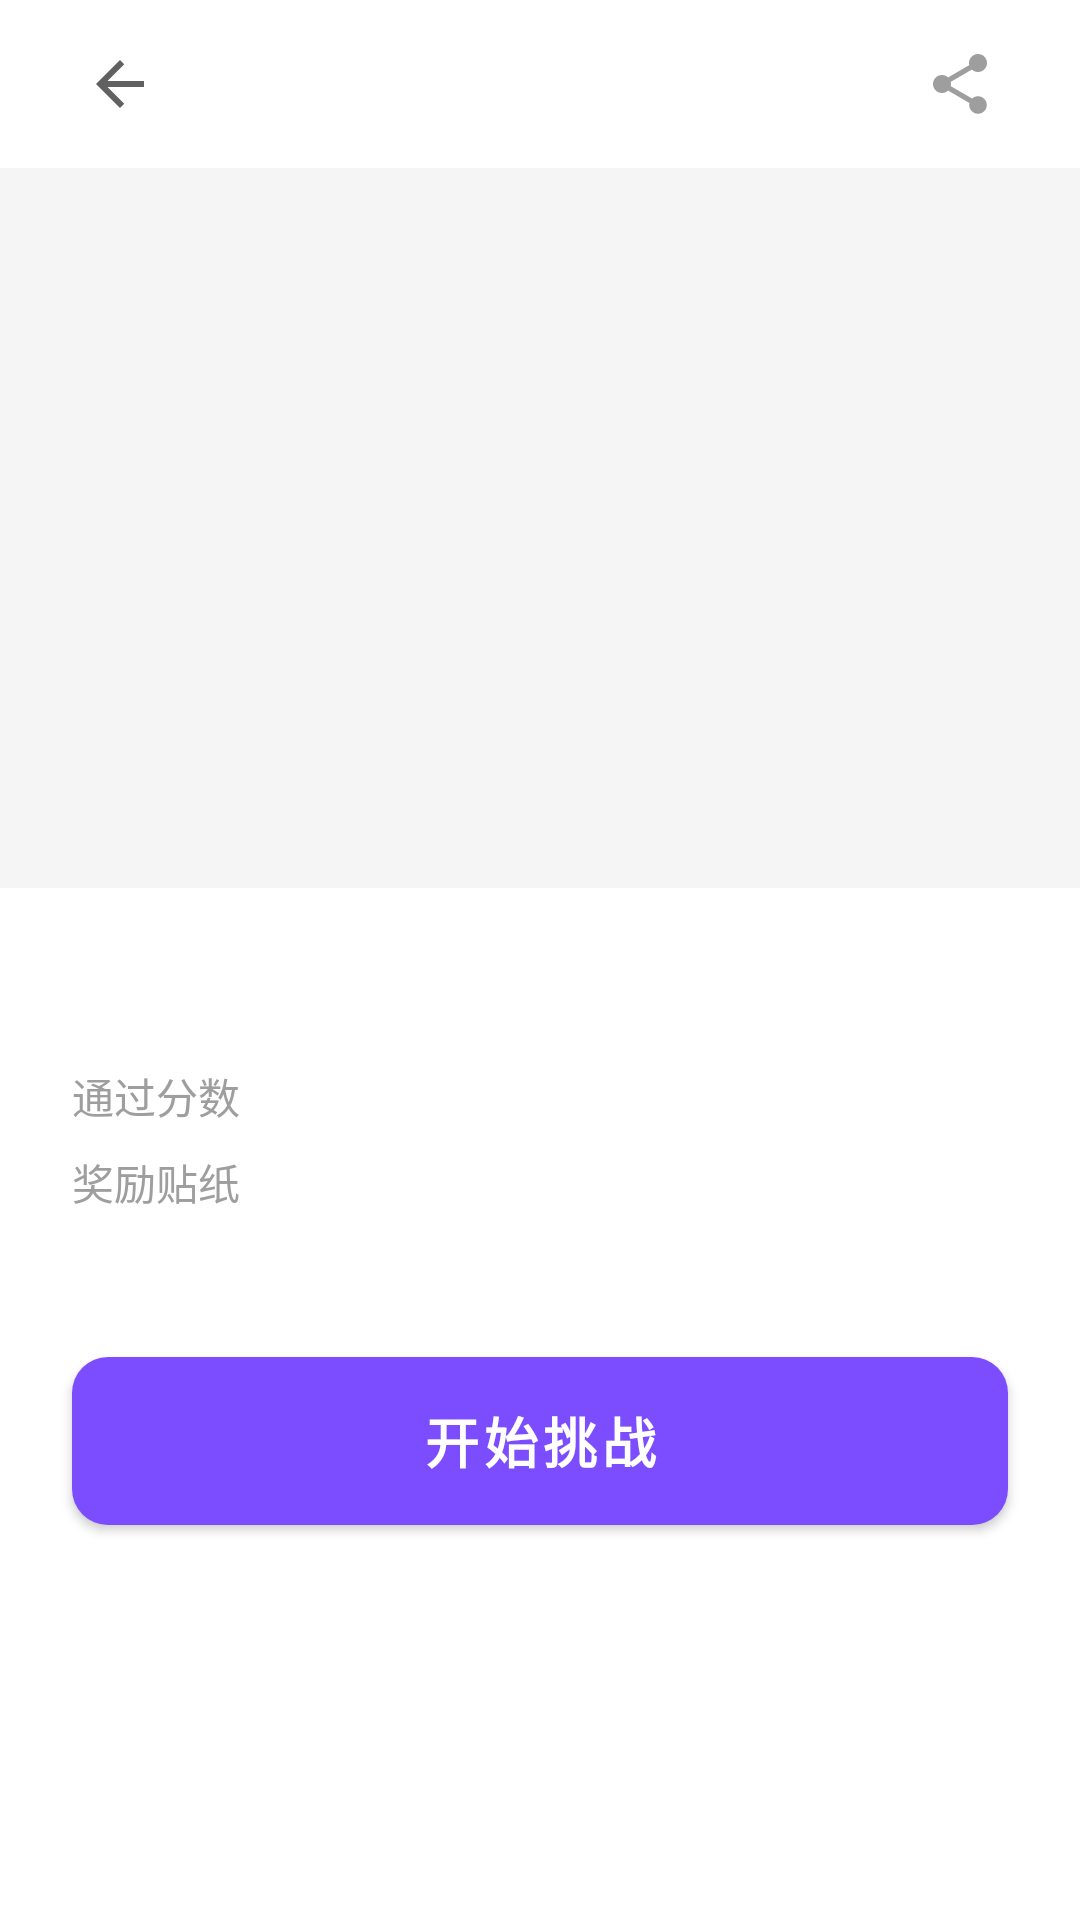

Locate icon controls on the screen. Image size 1080px x 1920px, boxes as (x1, y1, x2, y2).
share: (933, 54, 987, 114)
返回: (96, 60, 144, 108)
